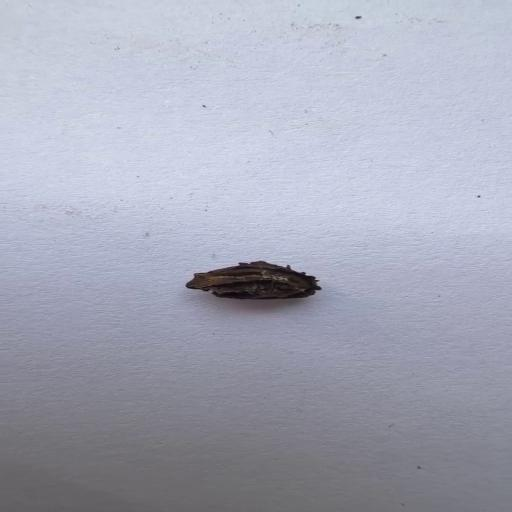papaya_seed: (182, 246, 347, 334)
